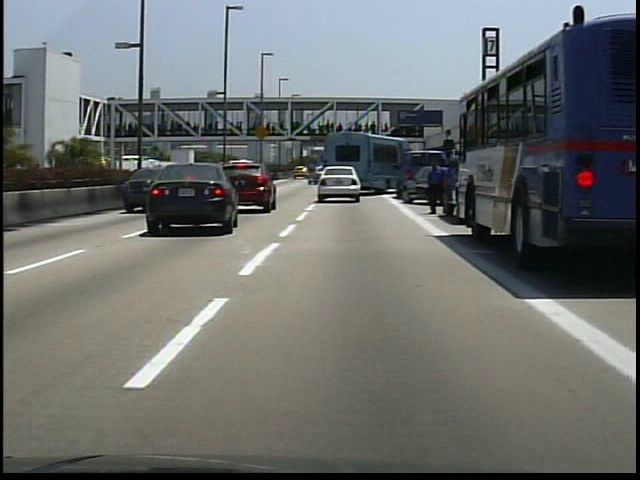person: (425, 156, 447, 219)
